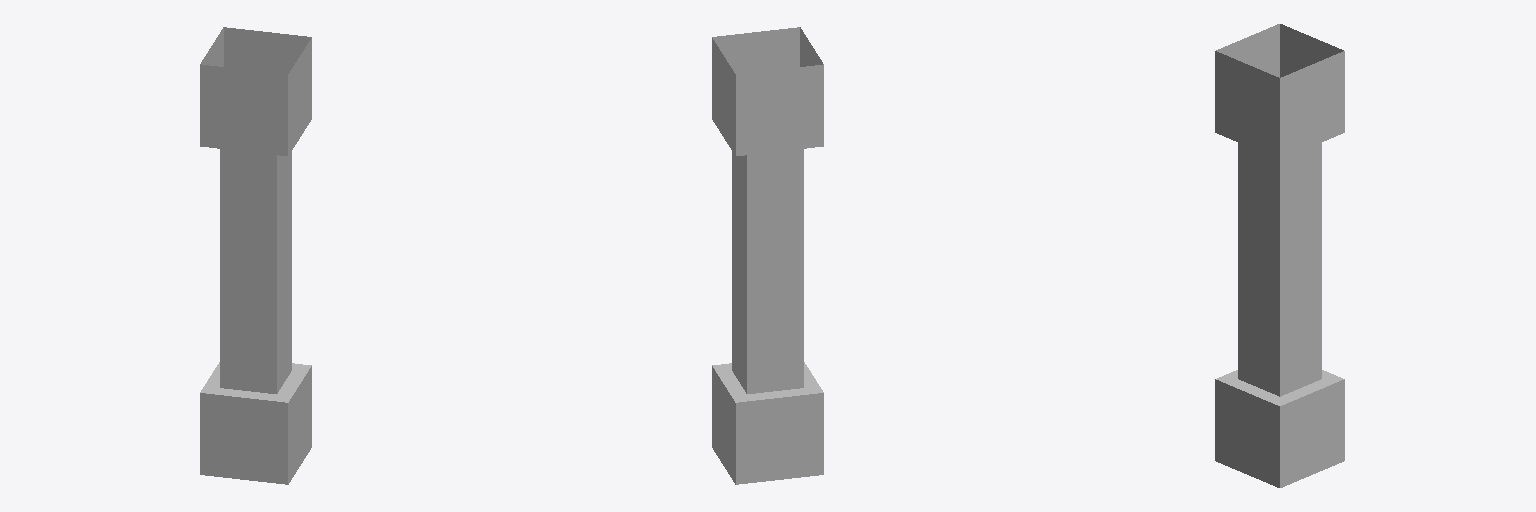
The model's file is column.obj.
3 views of the same model, side by side, from view 1: azimuth 30°, elevation 25°; view 2: azimuth 150°, elevation 25°; view 3: azimuth 270°, elevation 25° (orthographic).
Parts seen in each view (by area): view 1: Column; view 2: Column; view 3: Column.
Boxes of the visible parts, x1,y1,x2,y2 form: Column: [200, 27, 311, 484]; Column: [712, 27, 823, 484]; Column: [1215, 24, 1344, 487].
Bounding box in the file's own units: 2 × 7 × 2.